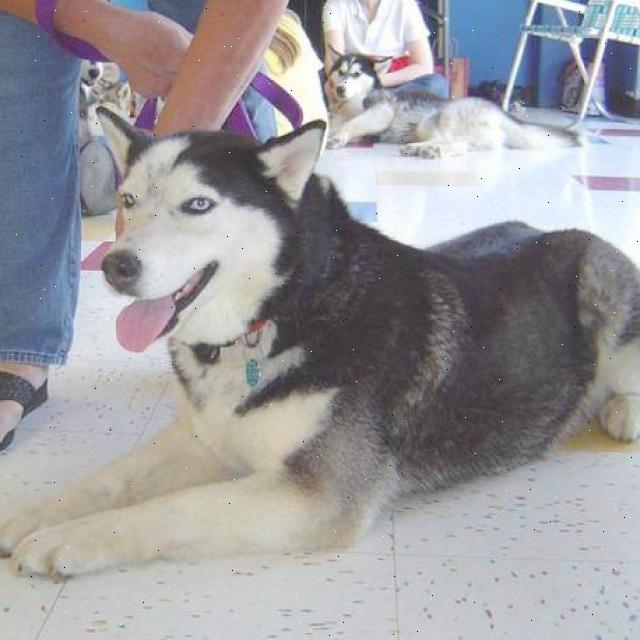Dog: (86, 97, 332, 366)
